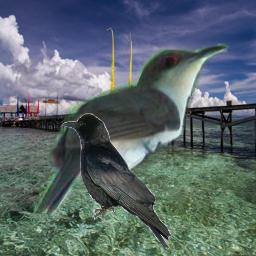Crow: (61, 113, 171, 249)
Cuckoo: (33, 43, 230, 220)
